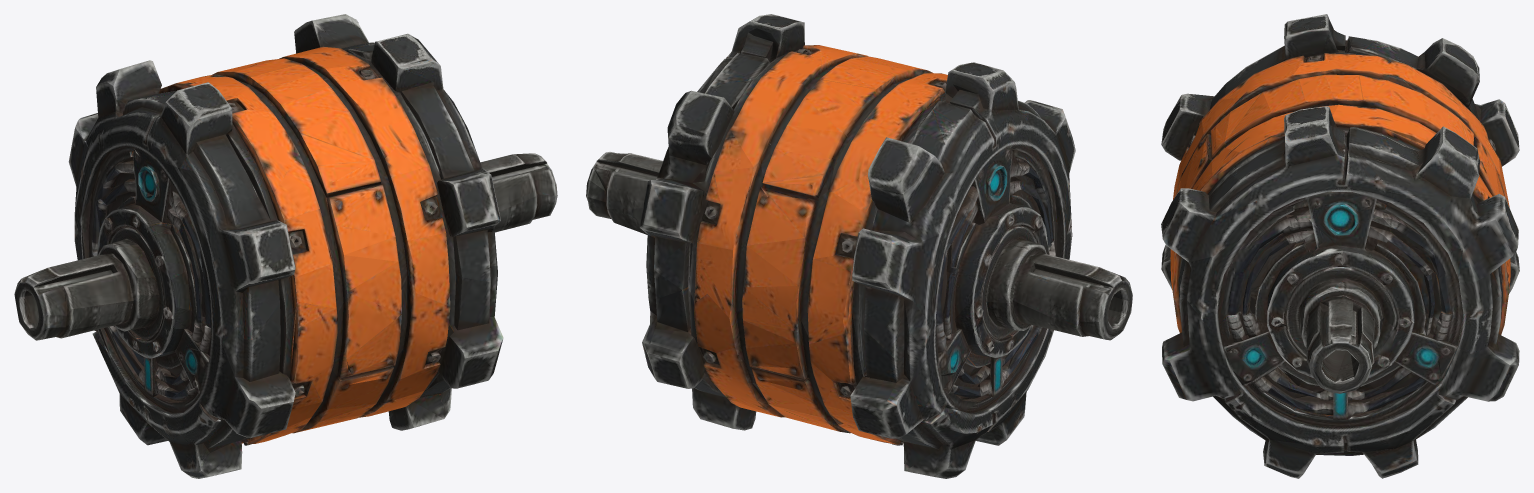
The model's file is drum.glb.
3 views of the same model, side by side, from view 1: azimuth 30°, elevation 25°; view 2: azimuth 150°, elevation 25°; view 3: azimuth 270°, elevation 25° (orthographic). The views are drawn at different scales.
Parts seen in each view (by area): view 1: Mesh_0; view 2: Mesh_0; view 3: Mesh_0.
Part boxes in pixels (<box>): Mesh_0: <box>14,14,557,478</box>; Mesh_0: <box>586,14,1132,478</box>; Mesh_0: <box>1161,14,1519,478</box>.
Size of the model in its own units: 0.7127 by 0.5 by 0.4533.
1 material, 1 textured.
